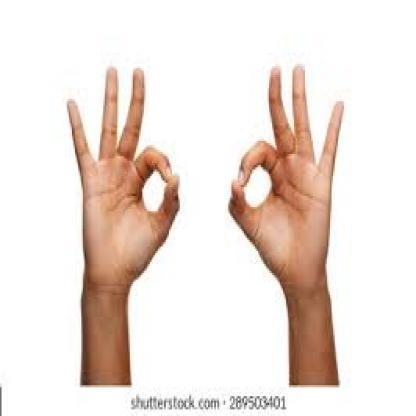ok: (223, 59, 348, 281), (64, 59, 182, 287)
